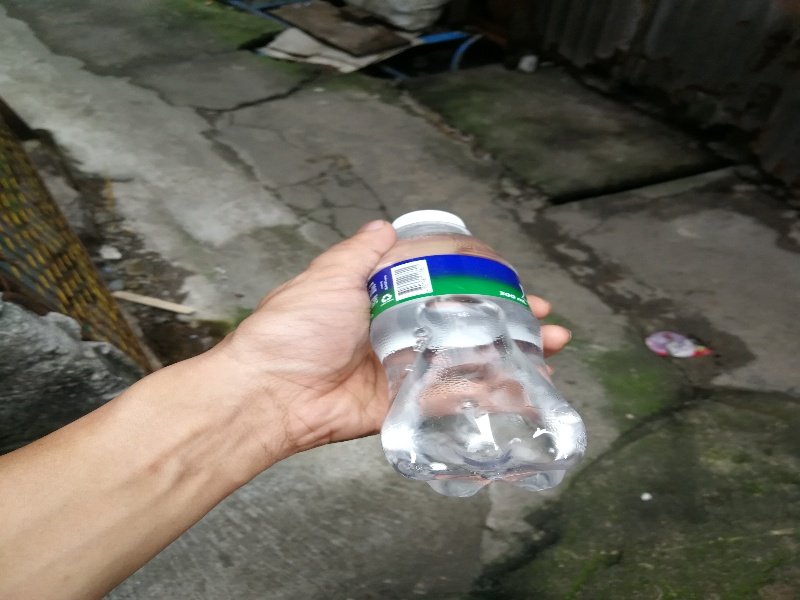PET #1: (366, 206, 591, 503)
